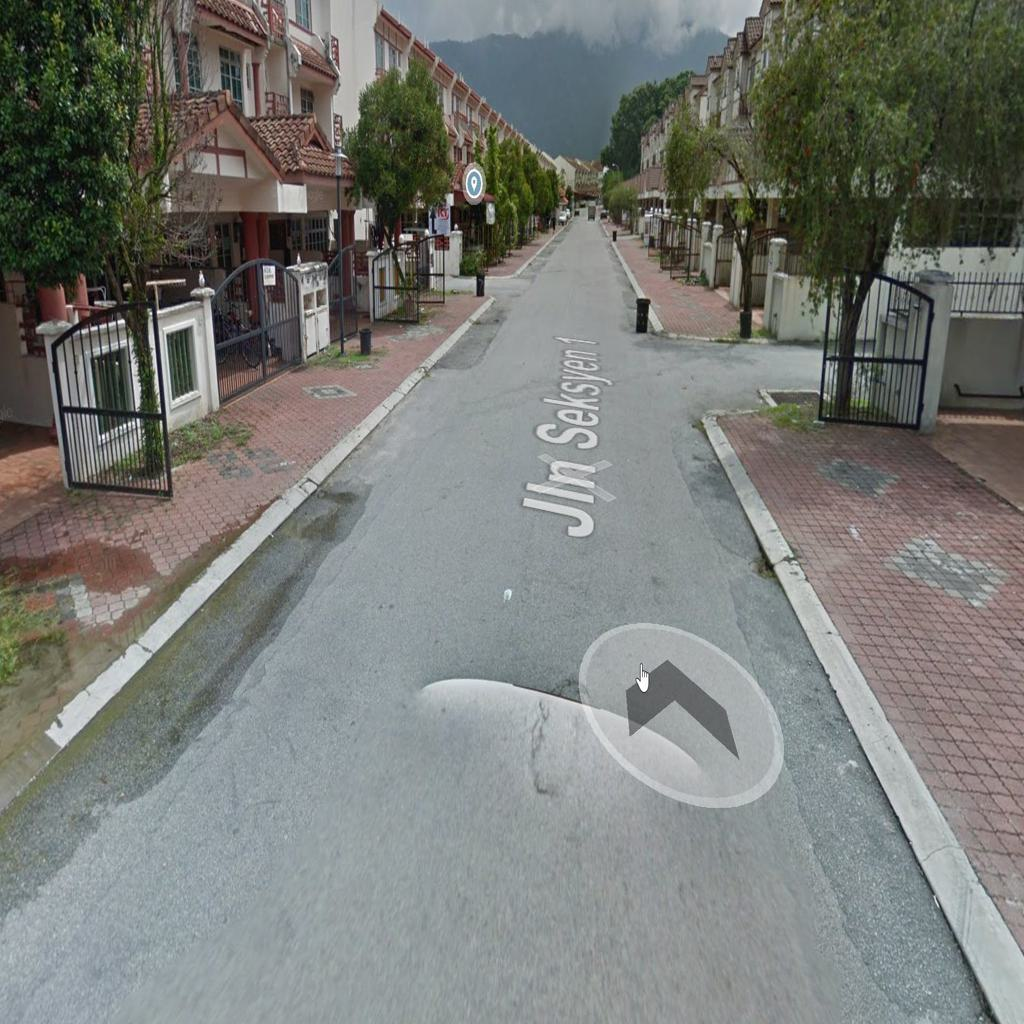Junction: (611, 307, 835, 441), (430, 245, 541, 303)
